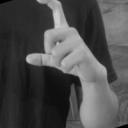hand: (25, 0, 108, 81)
